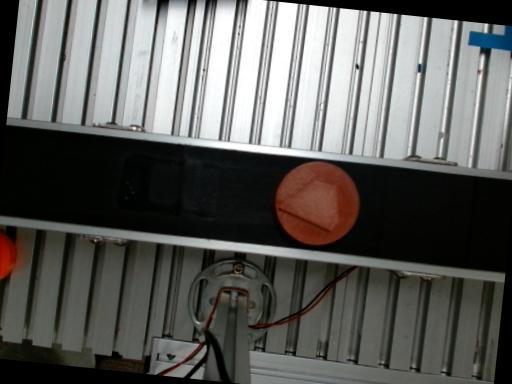Brown_Waper: (275, 161, 359, 245)
Not_Square: (277, 180, 339, 231)
